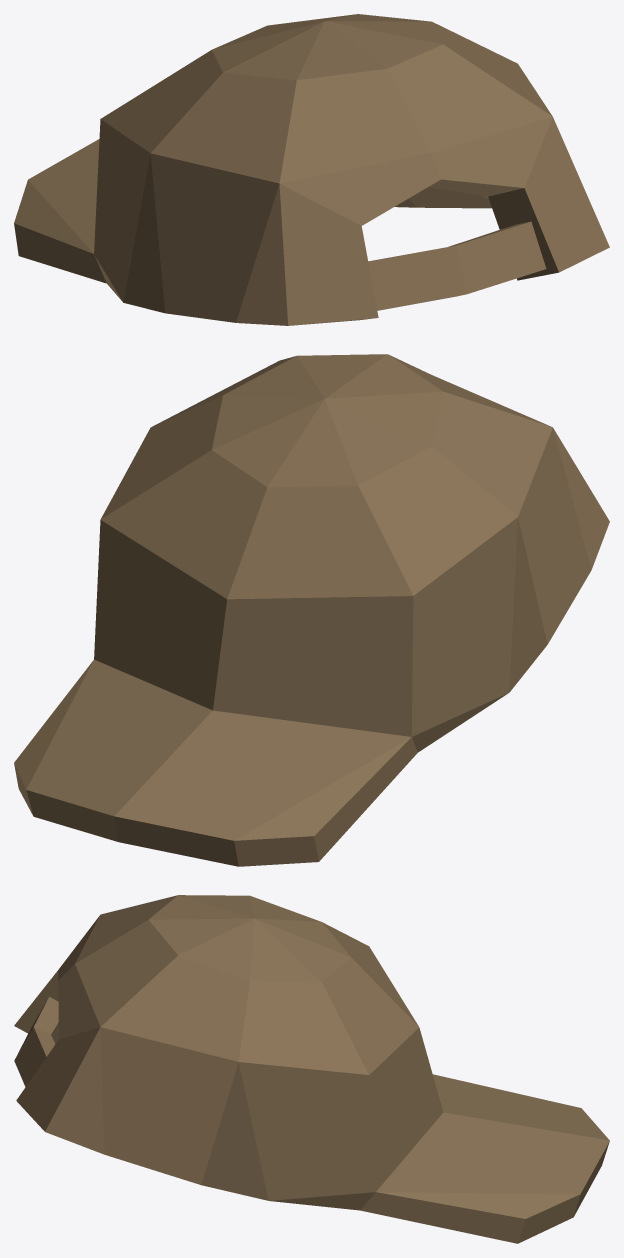
The model's file is SM_Chr_Attach_Hat_Cap_01.fbx.
3 renders of one model, top to bottom at view 1: azimuth 30°, elevation 25°; view 2: azimuth 150°, elevation 25°; view 3: azimuth 270°, elevation 25°, orthographic. The views are drawn at different scales.
Visible parts, largest first — view 1: SM_Chr_Attach_Hat_Cap_01; view 2: SM_Chr_Attach_Hat_Cap_01; view 3: SM_Chr_Attach_Hat_Cap_01.
Boxes of the visible parts, <box> form: SM_Chr_Attach_Hat_Cap_01: <box>14,14,609,325</box>; SM_Chr_Attach_Hat_Cap_01: <box>14,354,609,866</box>; SM_Chr_Attach_Hat_Cap_01: <box>14,895,609,1243</box>.
Size of the model in its own units: 26.84 by 20.75 by 42.53.
